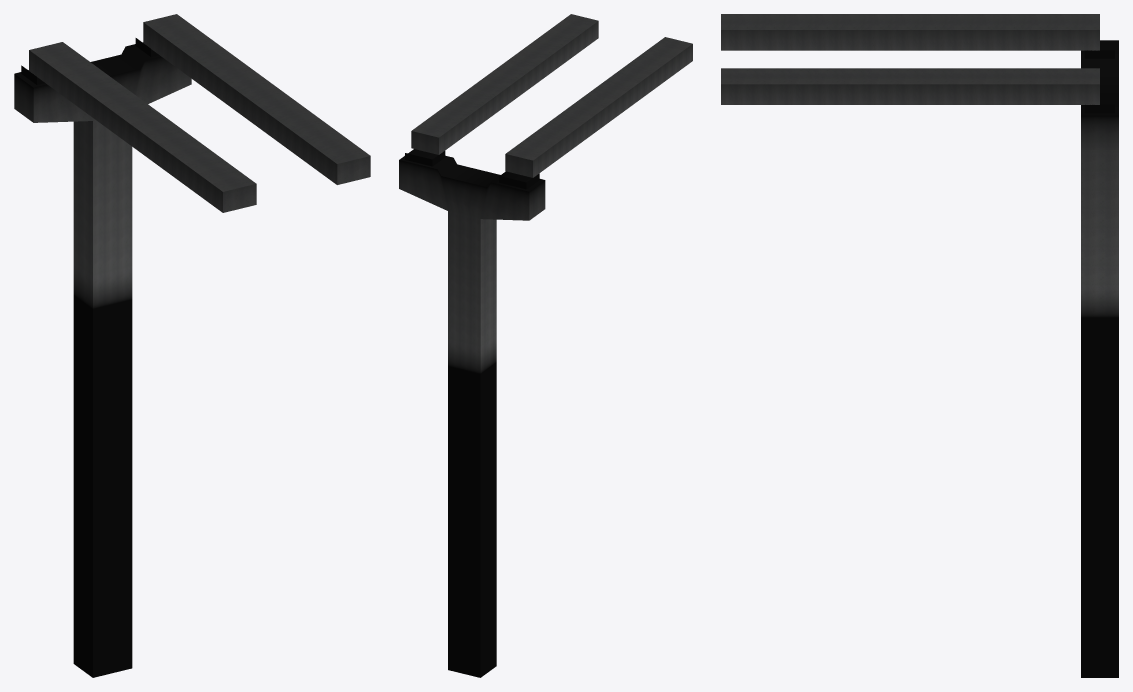
File: AMB_MONORAIL.glb
3 renders of one model, left to right at view 1: azimuth 30°, elevation 25°; view 2: azimuth 150°, elevation 25°; view 3: azimuth 270°, elevation 25°, orthographic. The views are drawn at different scales.
Parts seen in each view (by area): view 1: obj2, obj8; view 2: obj2, obj8; view 3: obj8, obj2.
Part boxes in pixels (bbox=[...]): obj2: bbox=[14, 38, 191, 677]; obj8: bbox=[29, 14, 370, 212]; obj2: bbox=[399, 149, 545, 677]; obj8: bbox=[411, 14, 692, 177]; obj8: bbox=[721, 14, 1099, 104]; obj2: bbox=[1081, 40, 1118, 677].
Bounding box in the file's own units: 23.55 × 90.21 × 52.5.
Materials: 2 (2 with a texture image).
